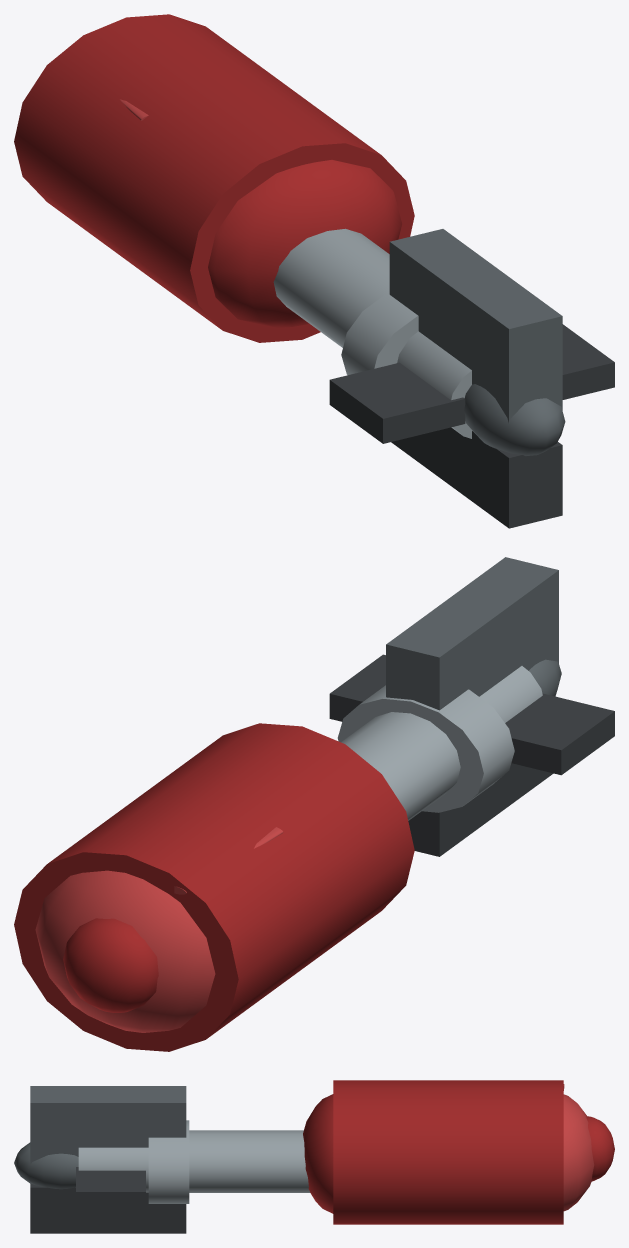
File: CMU3DFieldRMCMortarShellHECloud.glb
3 views of the same model, one above another, from view 1: azimuth 30°, elevation 25°; view 2: azimuth 150°, elevation 25°; view 3: azimuth 270°, elevation 25° (orthographic). The views are drawn at different scales.
Parts seen in each view (by area): view 1: red capsule body, upper tail raised fin, red body lower shoulder, slim gray tail stem, lower tail fin, left tail fin, tail lower tapered cap, tail silver collar, right tail fin; view 2: red capsule body, upper tail raised fin, rounded red nose, slim gray tail stem, tail silver collar, upper nose small red tip, left tail fin, lower tail fin, right tail fin, tail lower tapered cap; view 3: red capsule body, upper tail raised fin, slim gray tail stem, lower tail fin, tail silver collar, red body lower shoulder, rounded red nose, right tail fin, tail lower tapered cap, upper nose small red tip.
Part boxes in pixels (left/top/right/bottom): red capsule body: left=14, top=14, right=414, bottom=342; upper tail raised fin: left=389, top=229, right=562, bottom=423; red body lower shoulder: left=208, top=160, right=401, bottom=327; slim gray tail stem: left=273, top=228, right=472, bottom=438; lower tail fin: left=391, top=427, right=562, bottom=528; left tail fin: left=329, top=362, right=465, bottom=443; tail lower tapered cap: left=464, top=384, right=565, bottom=455; tail silver collar: left=341, top=292, right=418, bottom=374; right tail fin: left=562, top=324, right=614, bottom=399; red capsule body: left=14, top=723, right=414, bottom=1051; upper tail raised fin: left=386, top=557, right=558, bottom=710; rounded red nose: left=35, top=870, right=215, bottom=1032; slim gray tail stem: left=341, top=666, right=542, bottom=820; tail silver collar: left=337, top=685, right=514, bottom=812; upper nose small red tip: left=63, top=918, right=158, bottom=1012; left tail fin: left=505, top=693, right=614, bottom=775; lower tail fin: left=408, top=763, right=553, bottom=856; right tail fin: left=329, top=654, right=385, bottom=721; tail lower tapered cap: left=529, top=659, right=561, bottom=696; red capsule body: left=333, top=1080, right=563, bottom=1224; upper tail raised fin: left=30, top=1086, right=186, bottom=1164; slim gray tail stem: left=78, top=1130, right=310, bottom=1192; lower tail fin: left=30, top=1183, right=186, bottom=1233; tail silver collar: left=148, top=1120, right=189, bottom=1203; red body lower shoulder: left=303, top=1094, right=333, bottom=1213; rounded red nose: left=563, top=1094, right=594, bottom=1211; right tail fin: left=76, top=1167, right=145, bottom=1208; tail lower tapered cap: left=14, top=1142, right=78, bottom=1189; upper nose small red tip: left=586, top=1116, right=614, bottom=1181.
Size of the model in its own units: 0.2031 by 0.173 by 0.6969.
